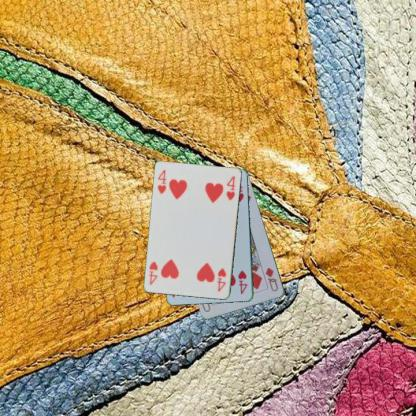4h: (215, 266, 228, 293), (236, 268, 248, 295), (156, 168, 168, 195)
Qd: (263, 265, 280, 293)
